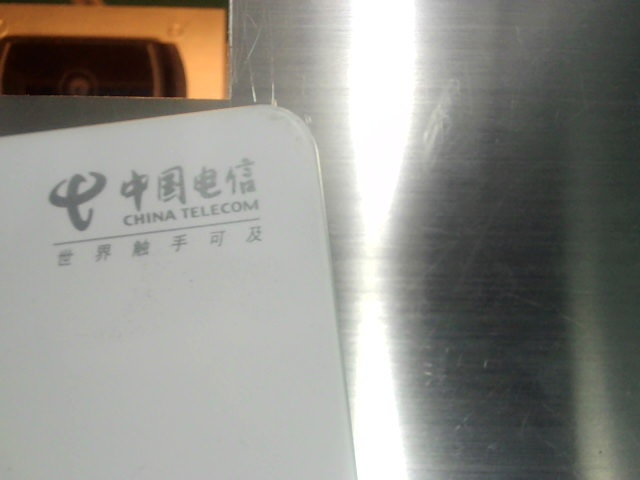AB_ChinaTelecom: (39, 155, 279, 265)
